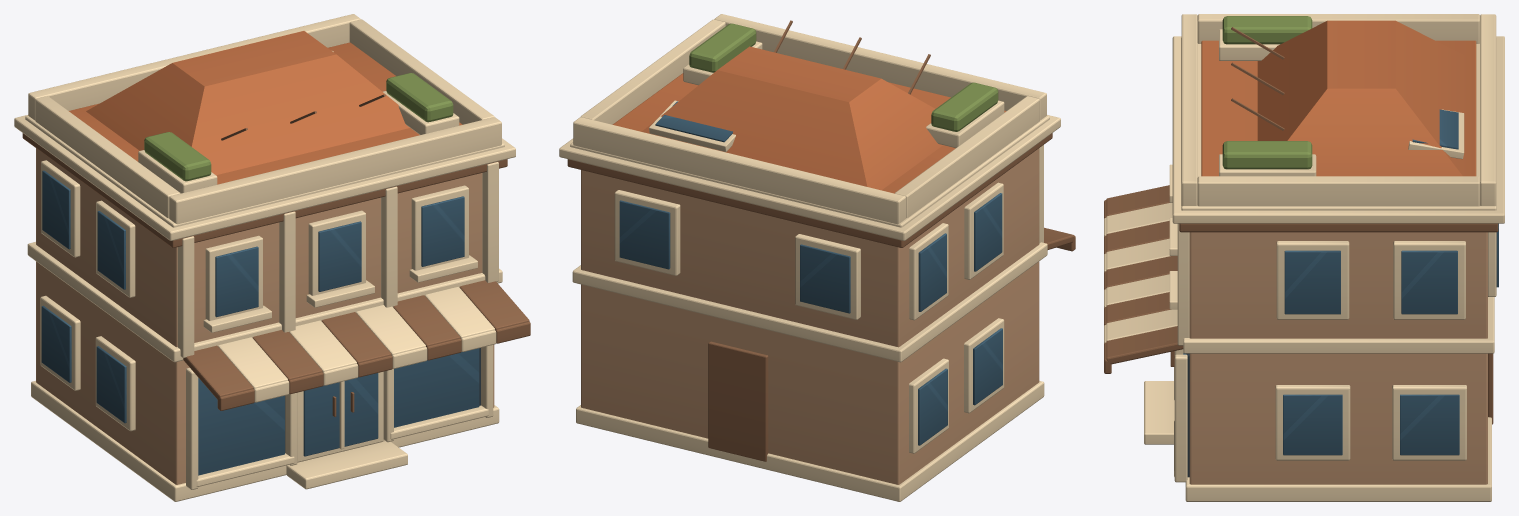
The model's file is 01D-market-blender.glb.
The picture shows the model from 3 angles, left to right: view 1: azimuth 30°, elevation 25°; view 2: azimuth 150°, elevation 25°; view 3: azimuth 270°, elevation 25°; orthographic projection. The views are drawn at different scales.
Parts seen in each view (by area): view 1: 01D Copper Rooftops; view 2: 01D Copper Rooftops; view 3: 01D Copper Rooftops.
Boxes of the visible parts, box(x1,y1,x2,y2) form: 01D Copper Rooftops: box(14, 14, 530, 501); 01D Copper Rooftops: box(559, 14, 1075, 501); 01D Copper Rooftops: box(1104, 14, 1504, 501).
Size of the model in its own units: 6.52 by 6.19 by 6.18.
7 materials, 7 textured.
